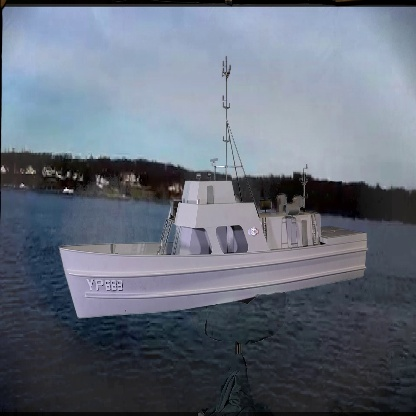YP689: (56, 71, 371, 322)
